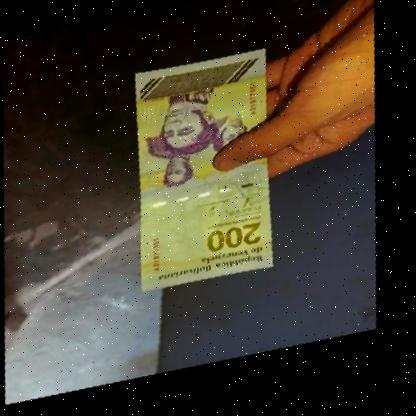two_hundred-front-vef: (112, 46, 303, 304)
